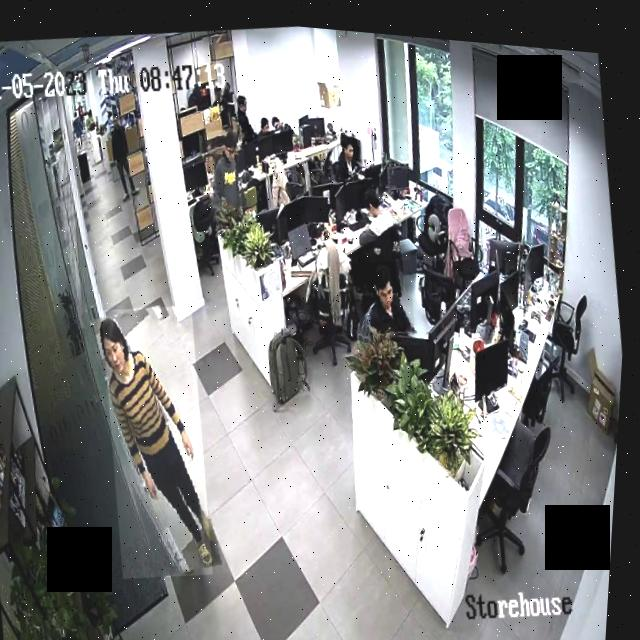person: (93, 295, 233, 582), (351, 249, 423, 340), (204, 122, 255, 209), (357, 176, 403, 236), (327, 123, 368, 182), (232, 87, 261, 141), (271, 102, 296, 131), (258, 110, 272, 132)
